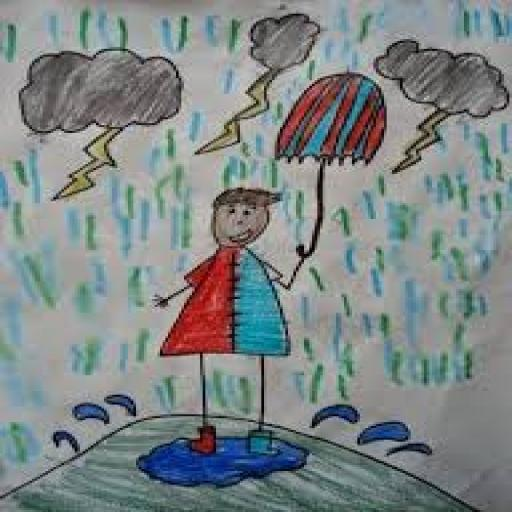person: (148, 185, 304, 469), (304, 462, 304, 468)
